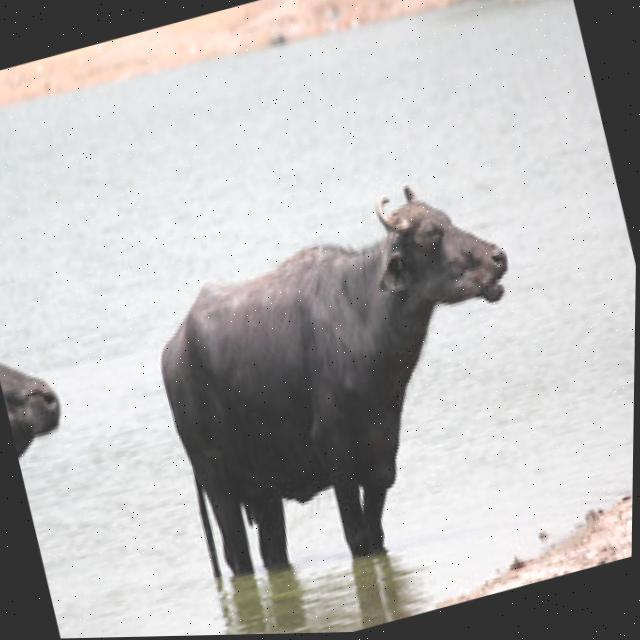Buffalo: (123, 156, 571, 605)
